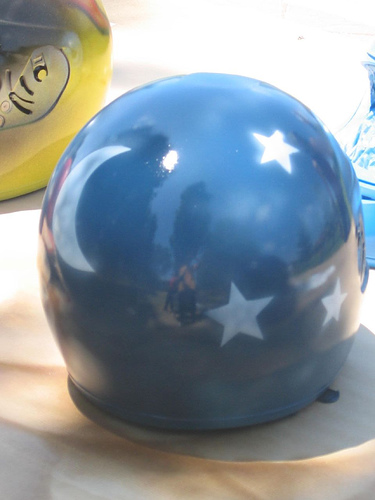helmet: (46, 71, 361, 416)
